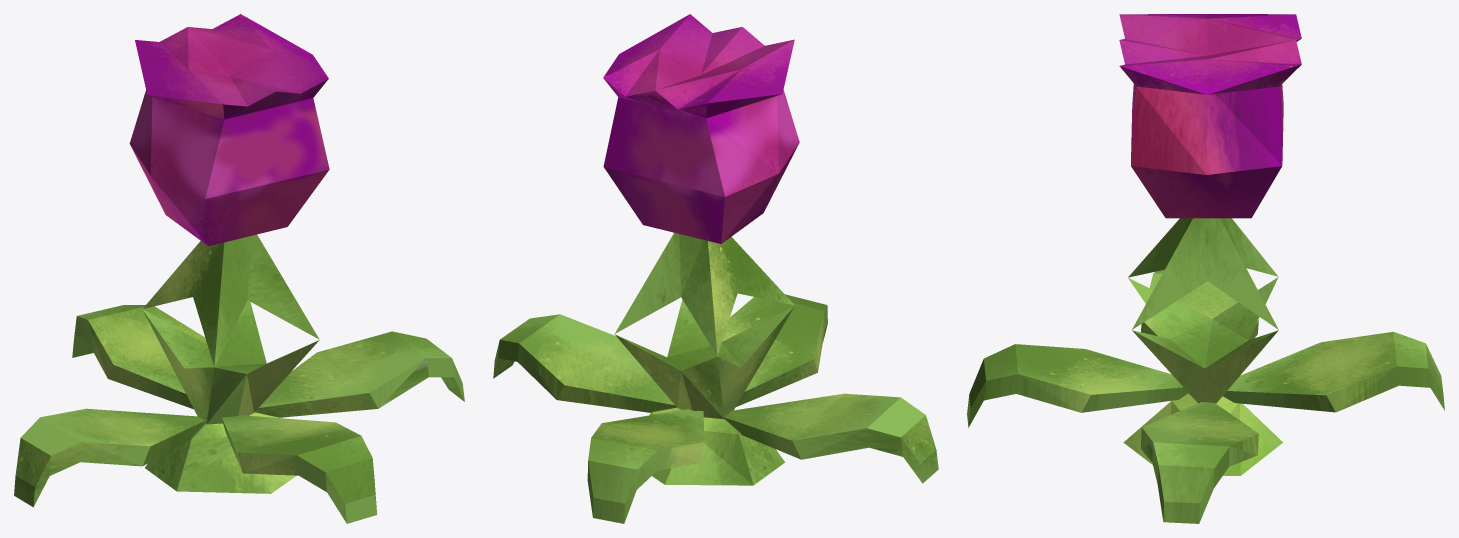
File: tulipThree.glb
3 renders of one model, left to right at view 1: azimuth 30°, elevation 25°; view 2: azimuth 150°, elevation 25°; view 3: azimuth 270°, elevation 25°, orthographic.
Parts seen in each view (by area): view 1: Cube; view 2: Cube; view 3: Cube.
Boxes of the visible parts, bbox=[...] form: Cube: bbox=[14, 14, 464, 523]; Cube: bbox=[493, 14, 938, 523]; Cube: bbox=[967, 14, 1444, 523].
Size of the model in its own units: 6.53 by 5.79 by 6.21.
Materials: 1 (1 with a texture image).
